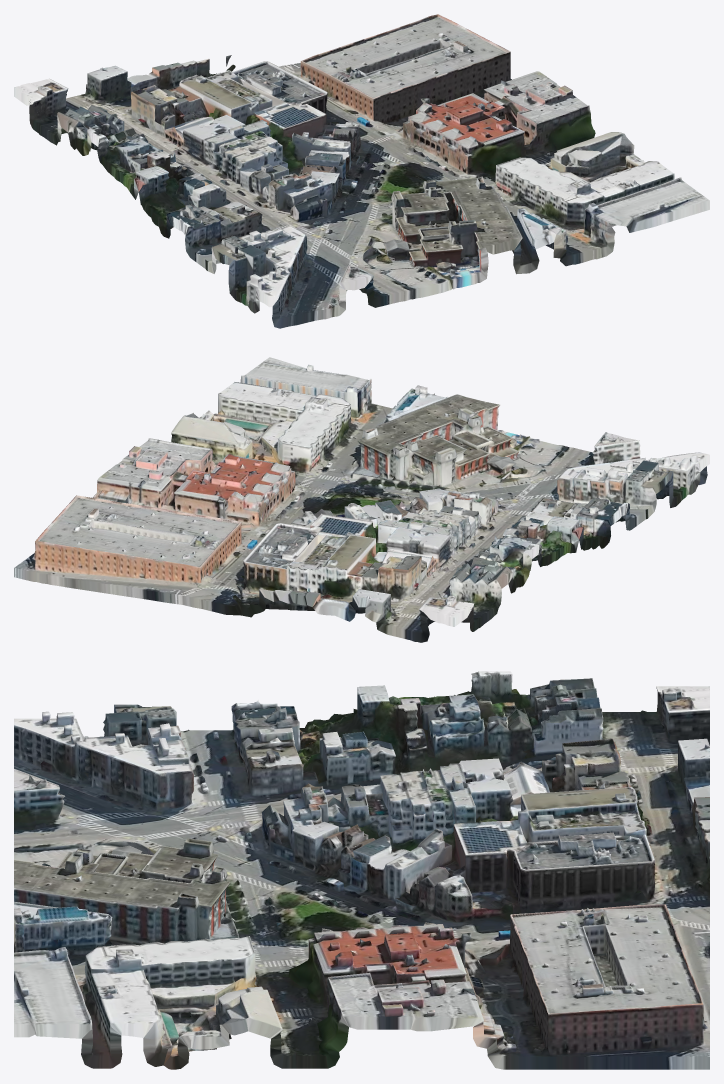
The model's file is z17-20964-50647-h0-yup-uvflip-v3-world.glb.
3 views of the same model, one above another, from view 1: azimuth 30°, elevation 25°; view 2: azimuth 150°, elevation 25°; view 3: azimuth 270°, elevation 25° (orthographic). The views are drawn at different scales.
Bounding box in the file's own units: 241 × 40.64 × 243.
Materials: 1 (1 with a texture image).
